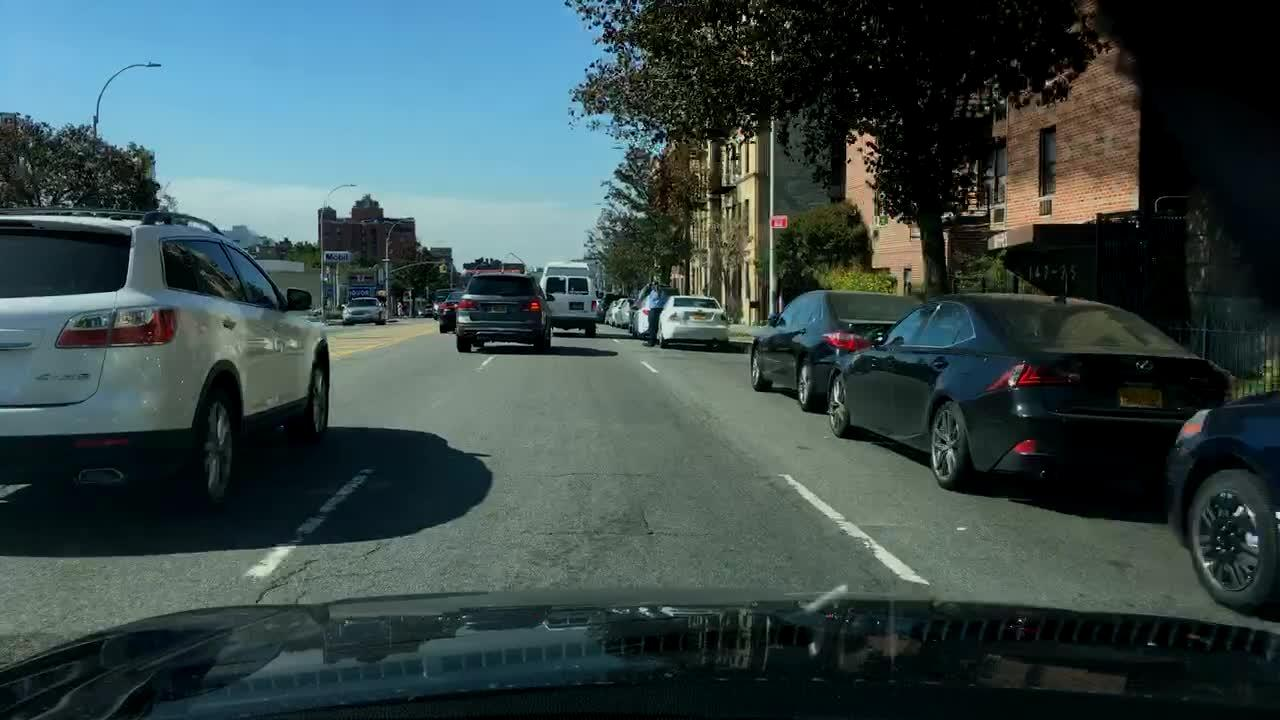lexus: (1134, 355, 1155, 376)
